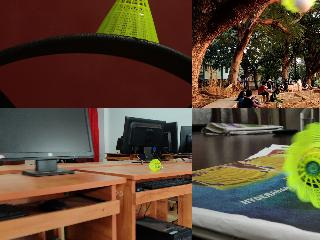shuttlecock: (283, 120, 319, 209), (96, 0, 159, 43), (278, 0, 319, 12), (150, 160, 162, 170)
